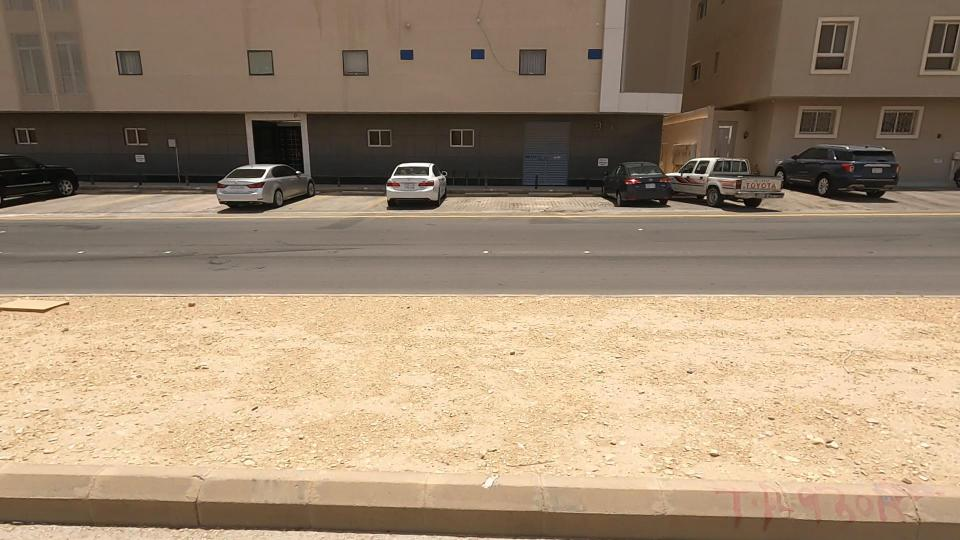CLUTTER_SIDEWALK: (0, 205, 660, 540), (360, 221, 960, 539)
